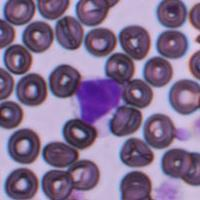L: (71, 75, 123, 125)
